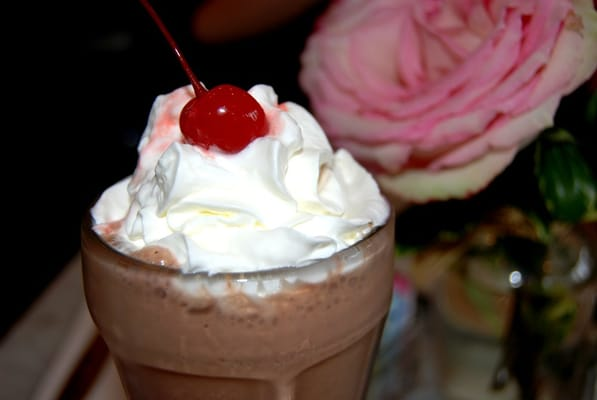sushi: (79, 82, 396, 395), (93, 82, 393, 276)
